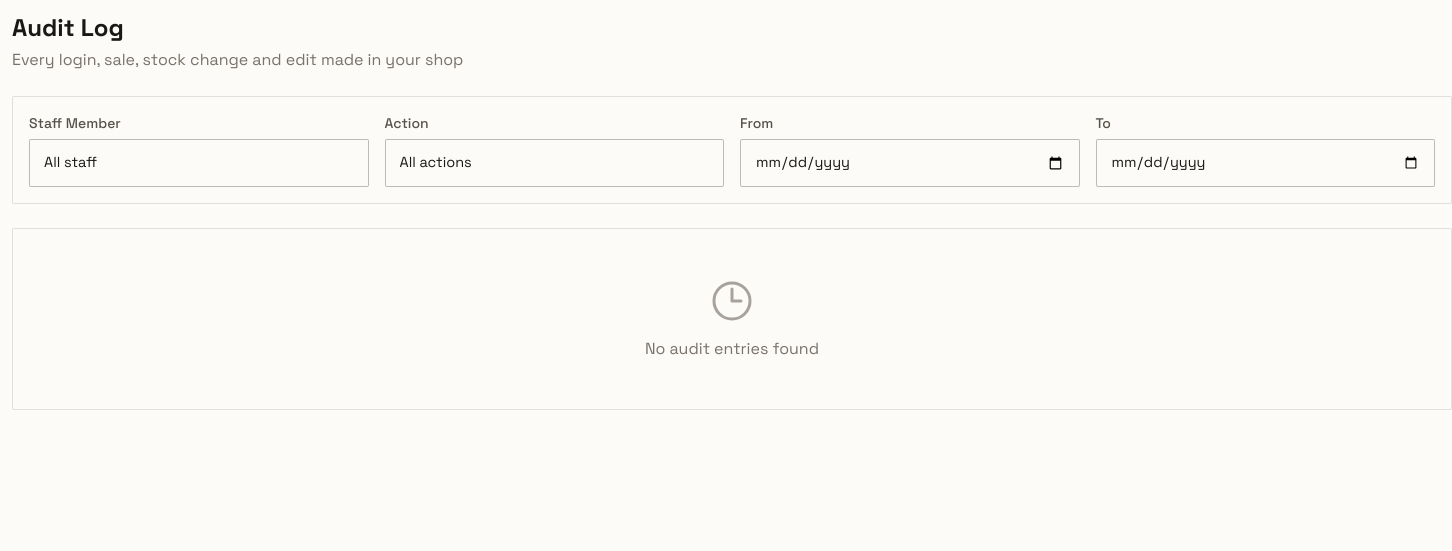
AuditLog › distinguishes a filtered miss from an empty log
Expected: the text "No audit entries found" is shown, [645,338,819,359]
Expected: the text "match these filters" is not shown
Select "Sale Voided" in the dropdown showing "All actions" below "Action". click: point(554, 163)
box: [384,139,724,187]
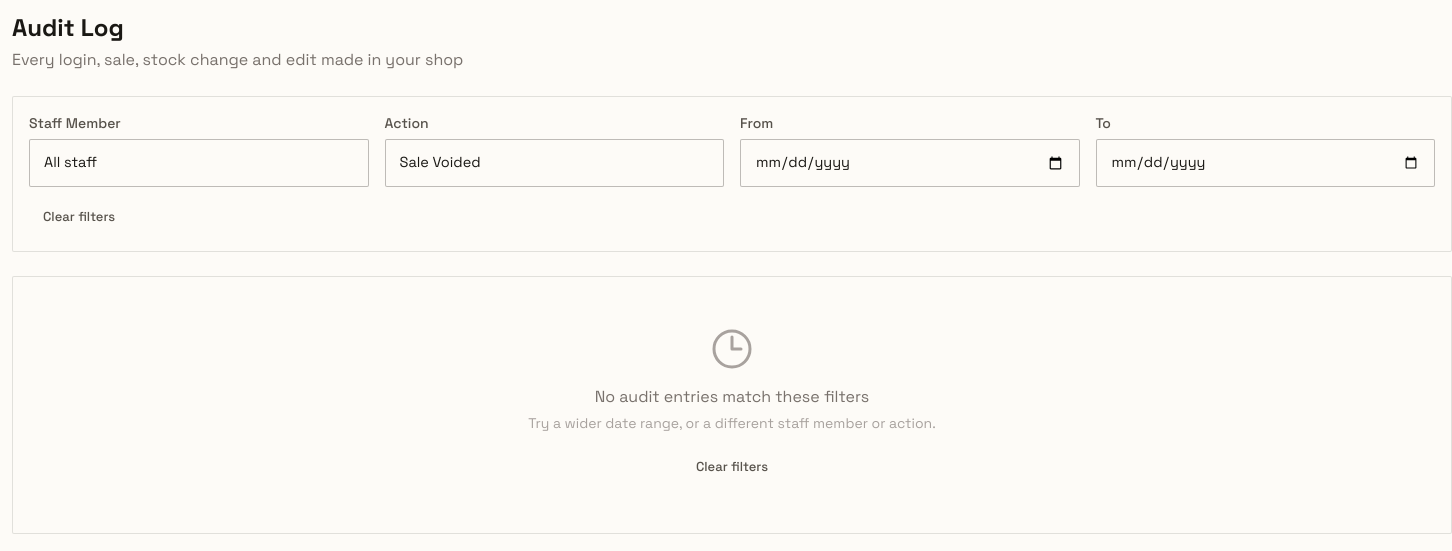
Expected: the text "No audit entries match these filters" is shown, [595,386,869,407]
Expected: the text "No audit entries found" is gone
# Clearing from the empty state restores the unfiltered view.
Click the 1st button "Clear filters". click: point(79, 217)
box: [29,199,129,235]
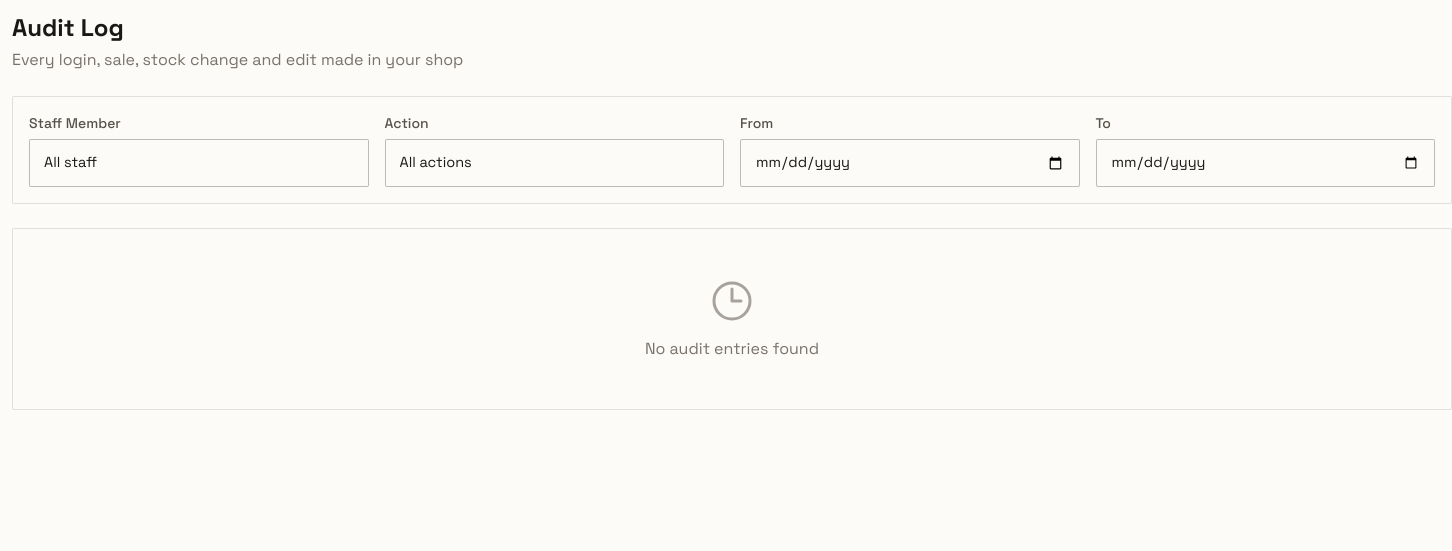
Expected: the text "No audit entries found" is shown, [645,338,819,359]
